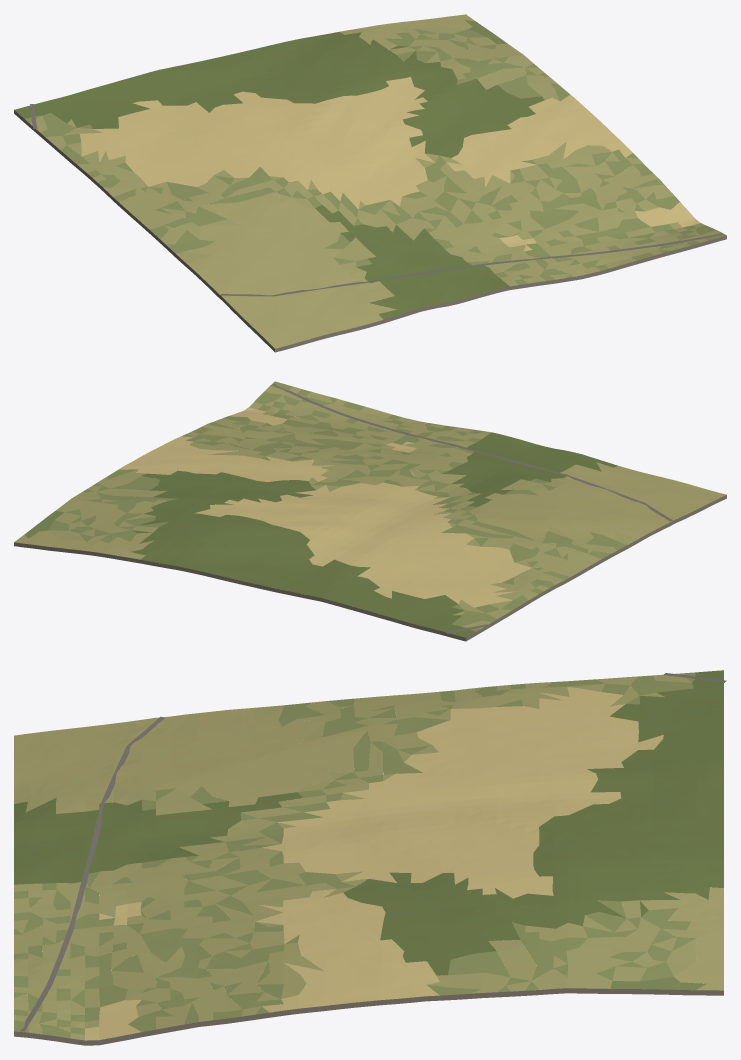
Rendered from parca_+0_-8-uzak.glb.
3 renders of one model, top to bottom at view 1: azimuth 30°, elevation 25°; view 2: azimuth 150°, elevation 25°; view 3: azimuth 270°, elevation 25°, orthographic. The views are drawn at different scales.
Parts seen in each view (by area): view 1: parca_+0_-8_arazi_uzak, parca_+0_-8_yollar_uzak; view 2: parca_+0_-8_arazi_uzak, parca_+0_-8_yollar_uzak; view 3: parca_+0_-8_arazi_uzak, parca_+0_-8_yollar_uzak.
Boxes of the visible parts, x1,y1,x2,y2 form: parca_+0_-8_arazi_uzak: (14, 14, 726, 352); parca_+0_-8_yollar_uzak: (30, 104, 723, 296); parca_+0_-8_arazi_uzak: (14, 381, 726, 641); parca_+0_-8_yollar_uzak: (272, 383, 672, 633); parca_+0_-8_arazi_uzak: (14, 670, 723, 1045); parca_+0_-8_yollar_uzak: (20, 673, 726, 1031).
Bounding box in the file's own units: 1005 × 127 × 1004.
